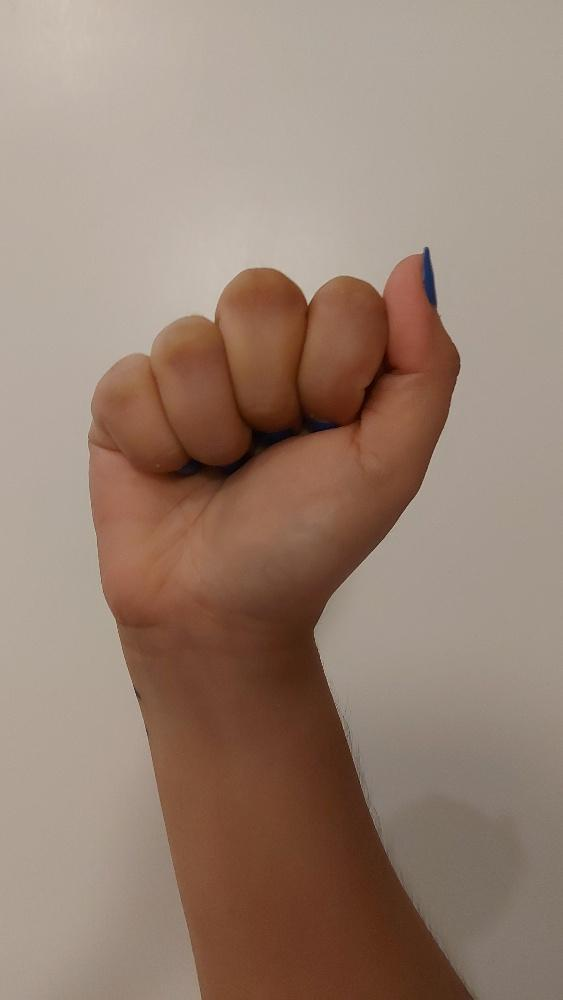a: (83, 245, 464, 635)
